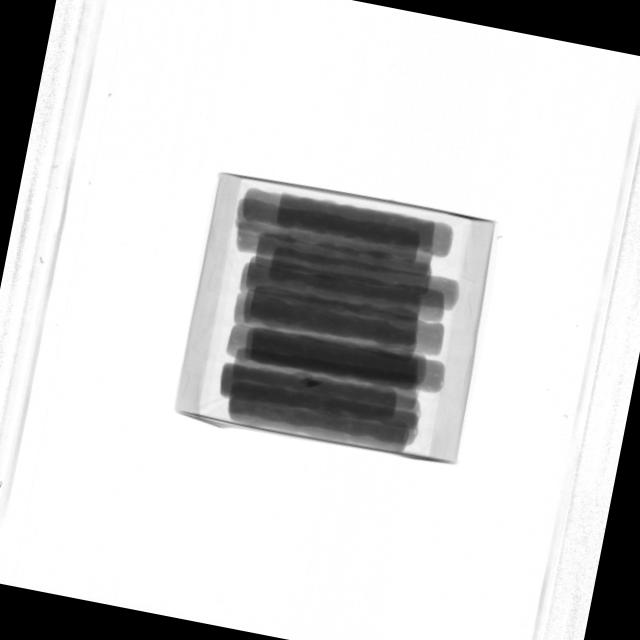ym: (304, 377, 325, 393)
